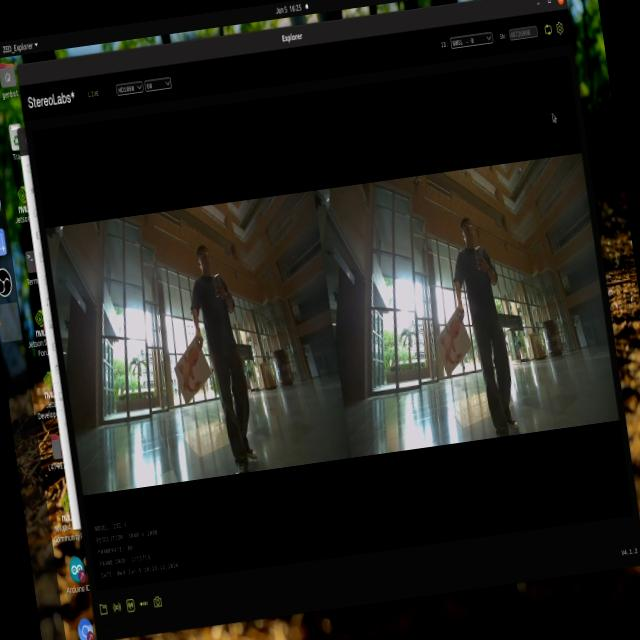red: (436, 306, 466, 376), (172, 337, 202, 397)
